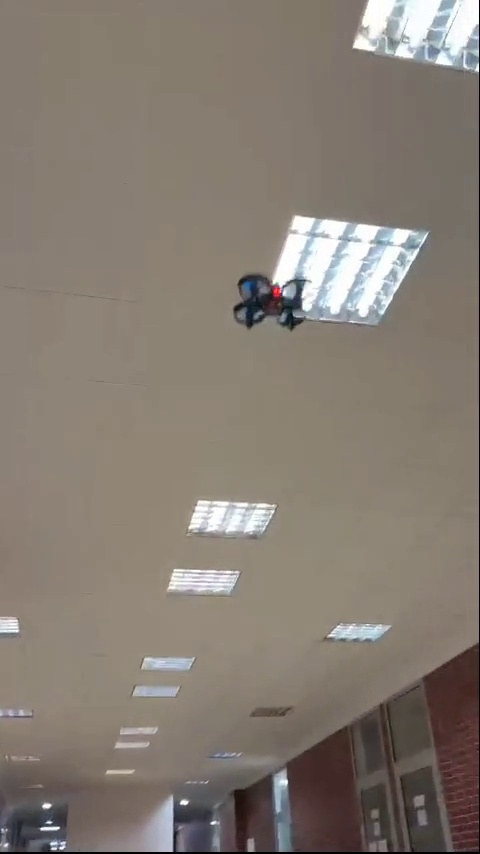drone: (235, 278, 313, 332)
